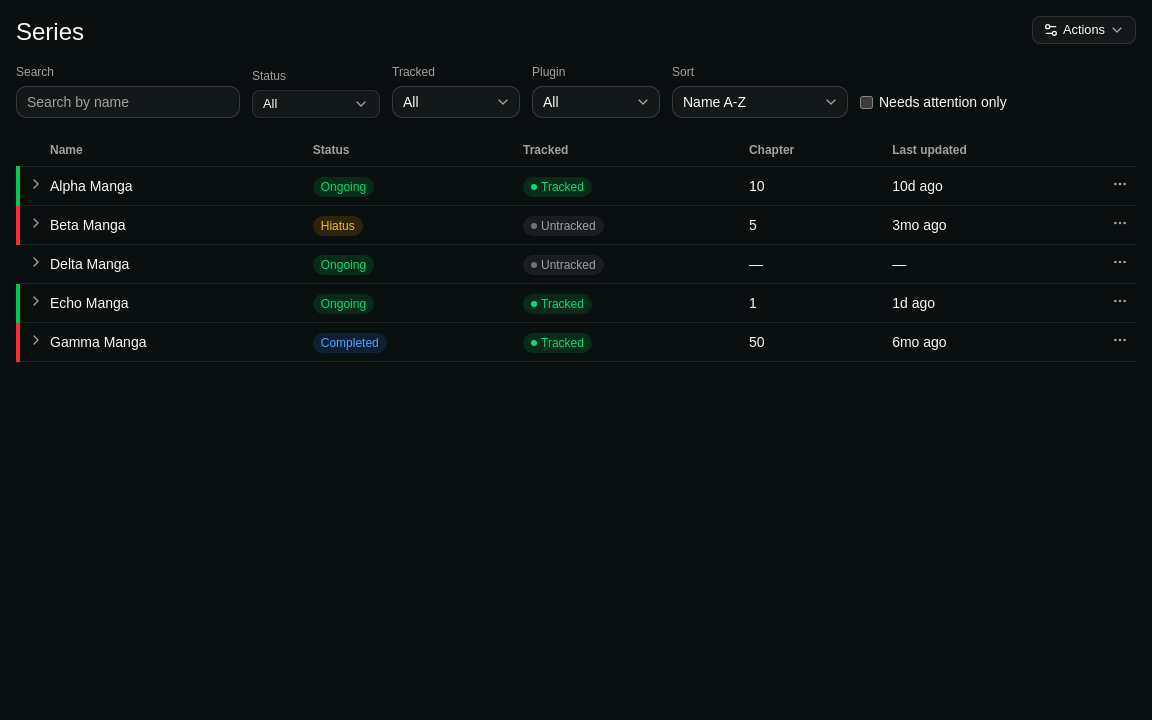
Test: SeriesPage › deletes a series after confirming
The width and height of the screenshot is (1152, 720).
Check: the link "Alpha Manga" is shown, box [50,178,132,194]
Click the button named "Actions for Alpha Manga" at coordinates (1120, 184), box [1112,176,1128,192]
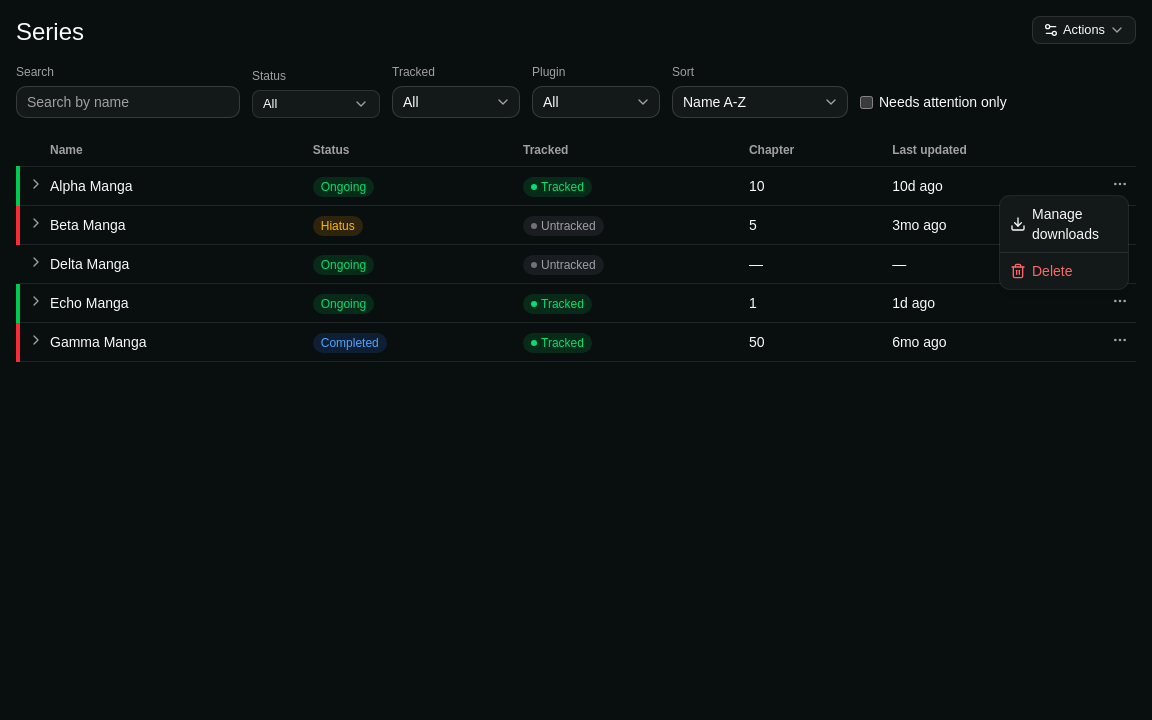
Click the menu item "Delete" at coordinates (1041, 271), box [1010,263,1072,279]
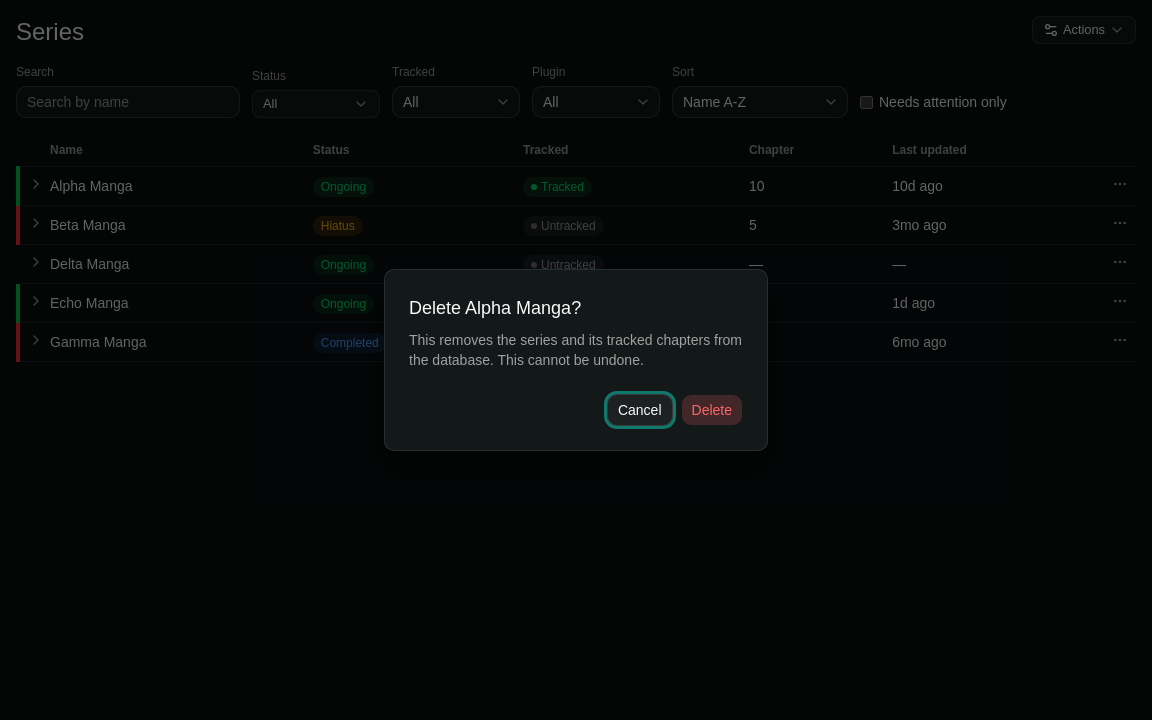
Check: the heading "Delete Alpha Manga?" is shown, box [409,298,581,318]
Click the button "Delete" at coordinates (712, 410), box [680,394,743,426]
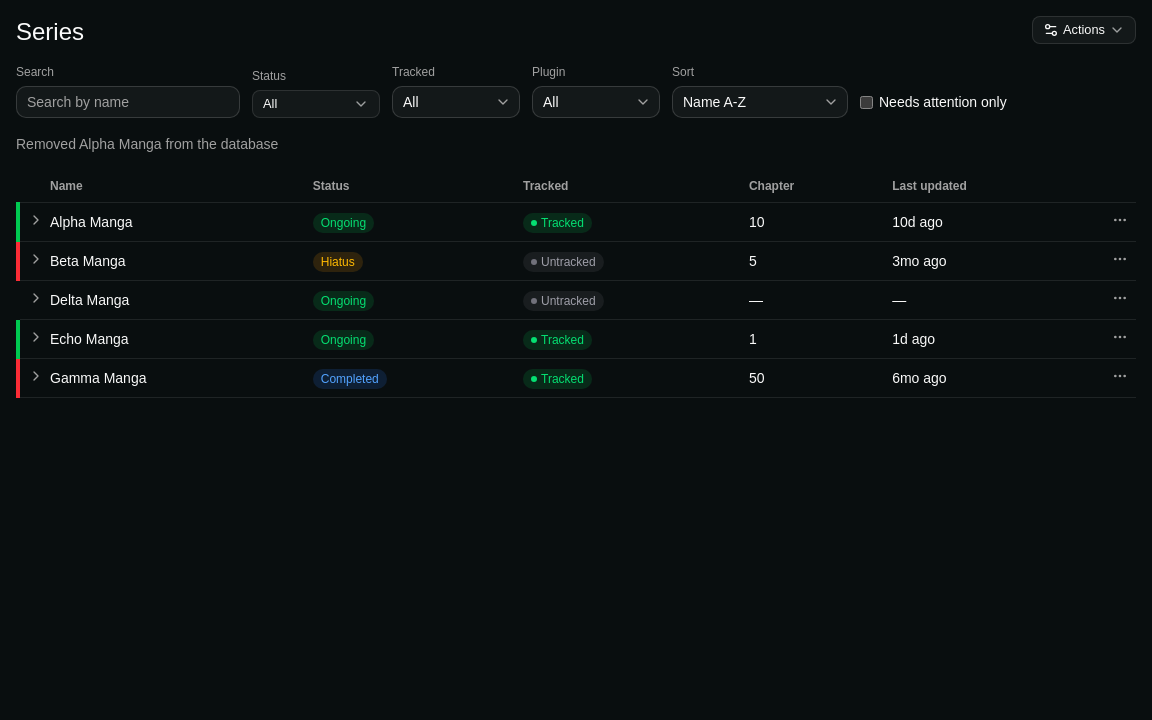
Check: the text "Removed Alpha Manga from the database" is shown, box [16,136,278,152]
